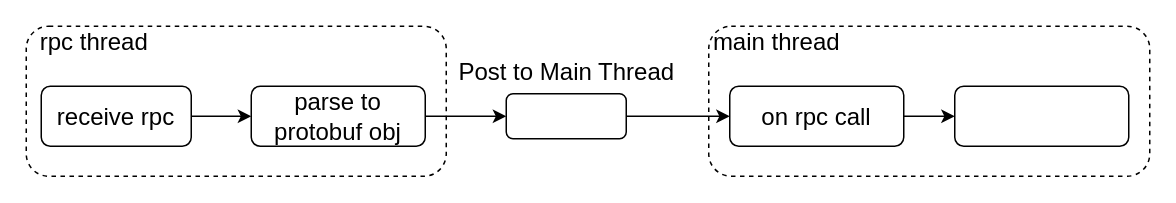
This 1176x203 diagram has some shape labels left out. Each missing label, with the centre of its shape:
handle rpc: the point at 1041,115
queue: the point at 565,115
